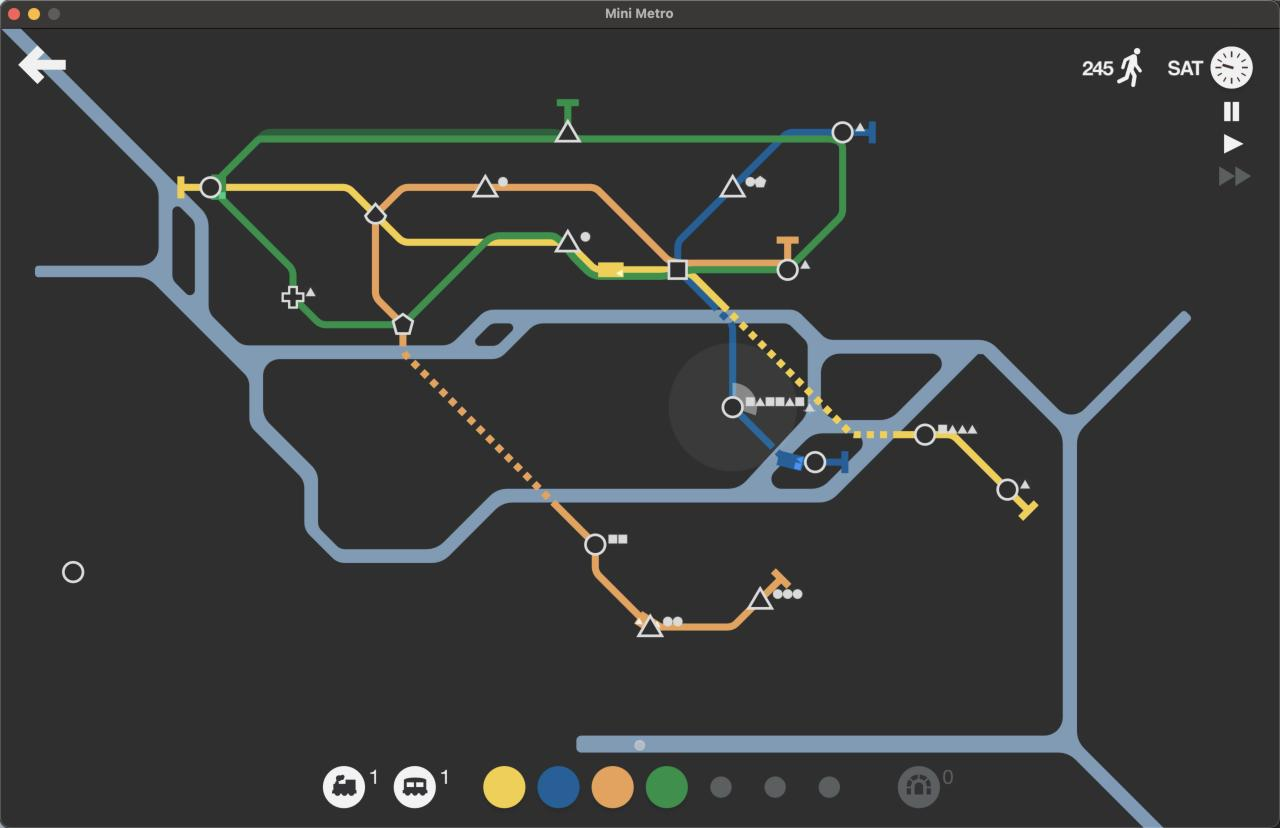BLUE LINE: (684, 279, 737, 395), (739, 413, 805, 465), (674, 197, 727, 259), (739, 143, 781, 185), (827, 451, 848, 473), (857, 121, 877, 142), (780, 127, 832, 135)
DARK GREEN LINE: (579, 136, 847, 263), (219, 135, 559, 178), (409, 232, 563, 320), (216, 194, 296, 287), (567, 253, 670, 280), (298, 304, 393, 329), (688, 265, 777, 274), (557, 98, 581, 119)
ORANGE YELLOW LINE: (399, 333, 592, 539), (495, 185, 674, 262), (592, 555, 649, 624), (381, 185, 479, 210), (371, 225, 397, 319), (661, 608, 752, 631), (765, 569, 793, 596), (687, 260, 784, 266), (775, 237, 799, 259)
YELLOW LINE: (692, 275, 915, 439), (227, 184, 374, 210), (937, 431, 1002, 483), (379, 221, 483, 246), (577, 250, 669, 273), (1013, 497, 1039, 521), (177, 177, 201, 199), (491, 239, 557, 246)
